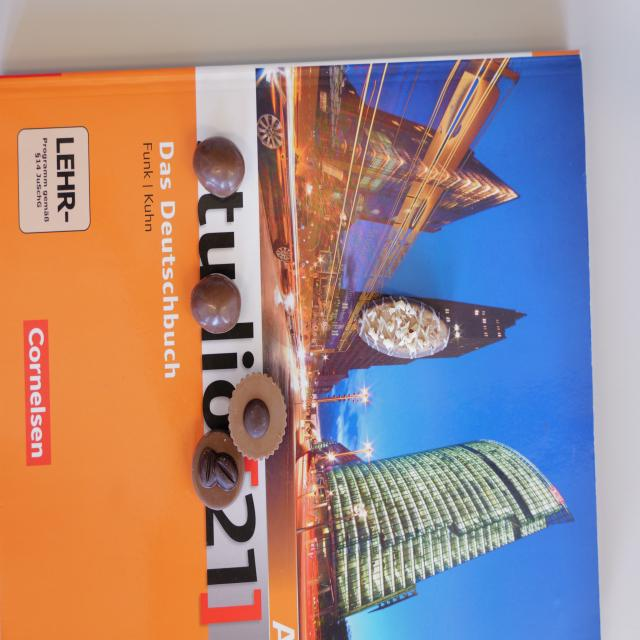Amandina: (356, 295, 449, 360)
Arabia: (192, 429, 244, 512)
Jelly_Milk: (192, 136, 245, 200), (191, 274, 240, 335)
Noblesse: (226, 371, 288, 462)
